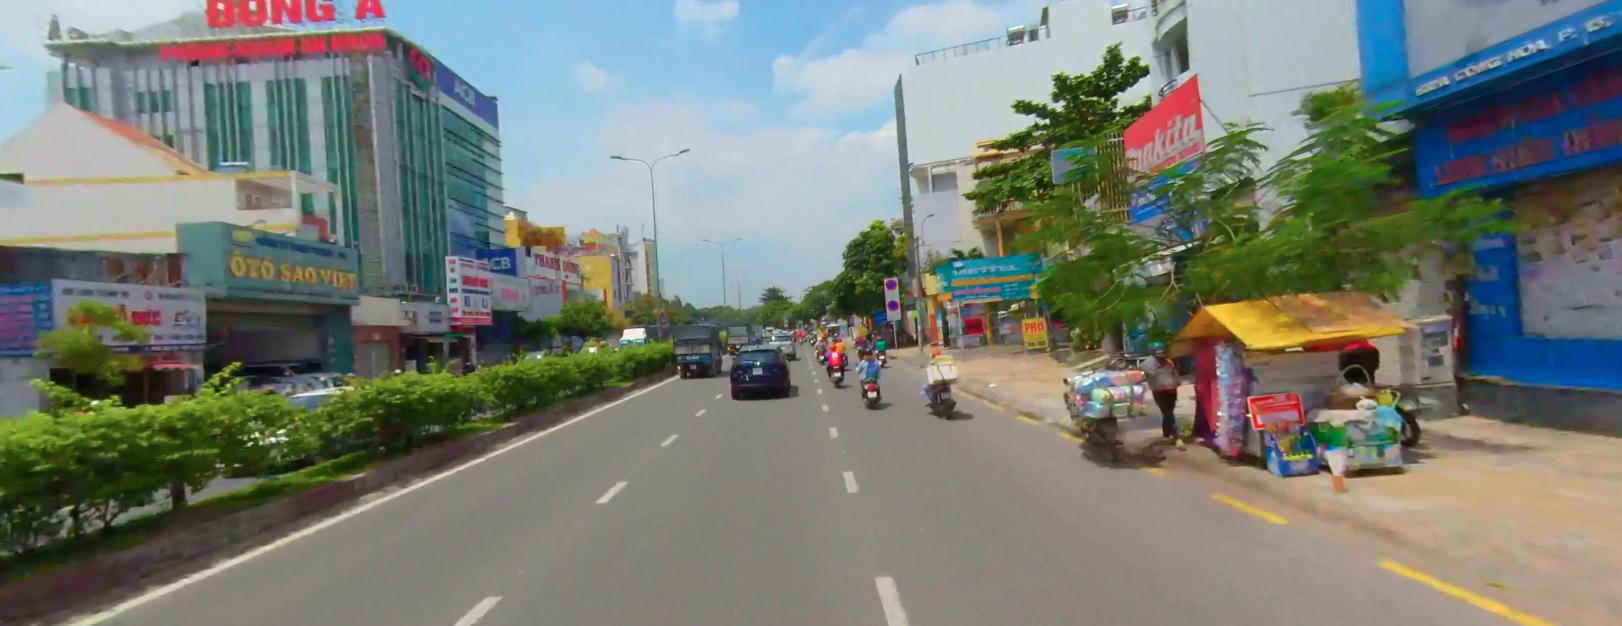Cam dung va do: (885, 278, 897, 288), (888, 299, 899, 308)
